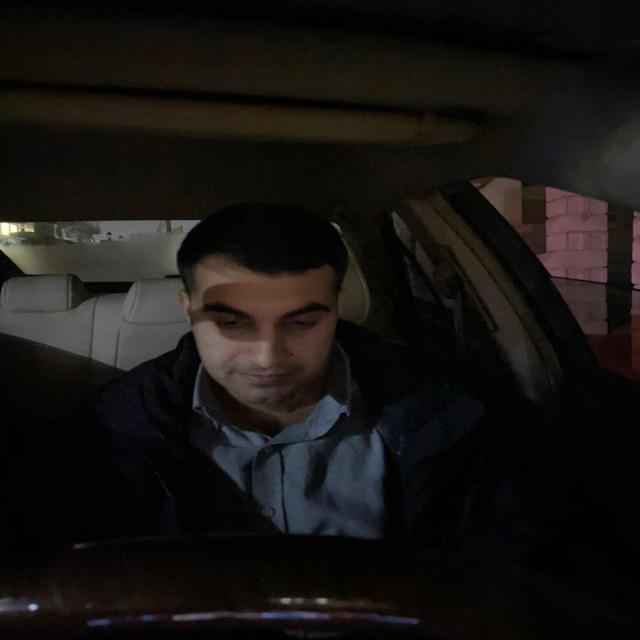person: (173, 199, 358, 415)
